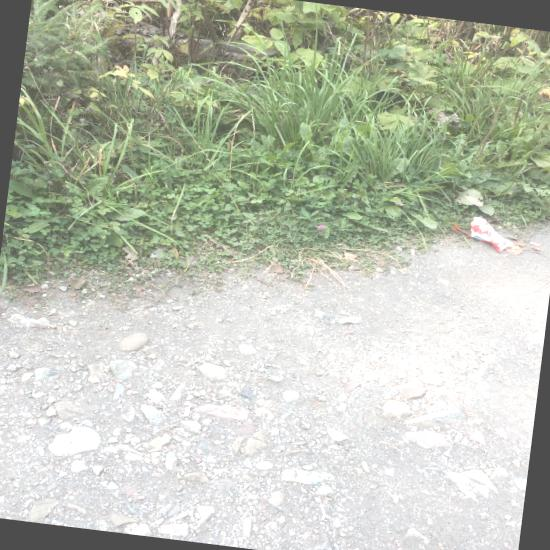Cigarette: (183, 407, 190, 417)
Other plastic: (454, 217, 513, 253)
